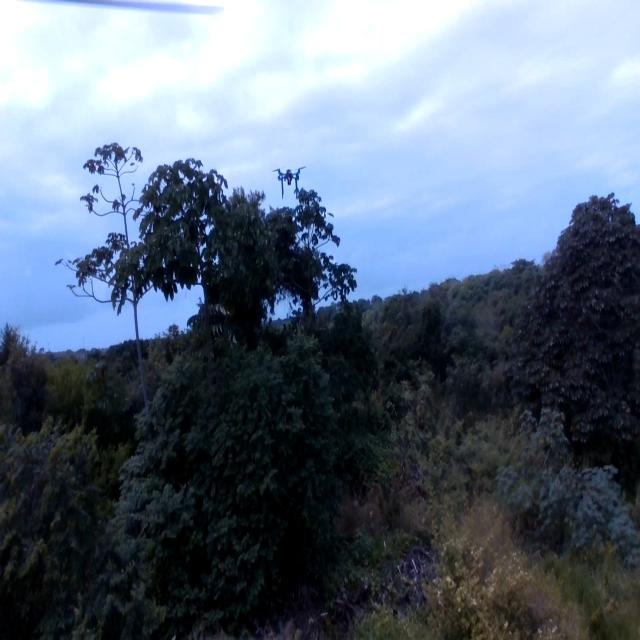-uav-: (269, 159, 311, 208)
